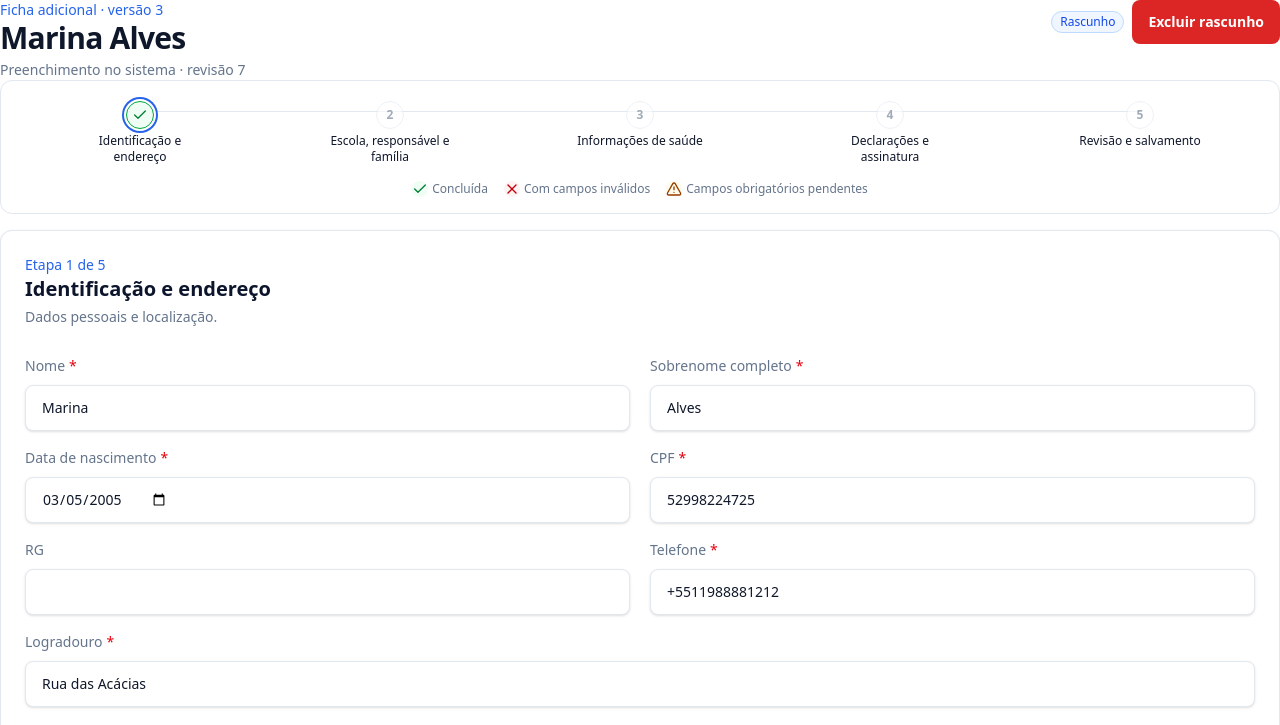
Test: OratorianoFormEditor › navega por todas as áreas e preserva valores locais
Replace the text in the field labelled "Nome" with "Mariana" at (328, 408), box x1=25 y1=385 x2=630 y2=431
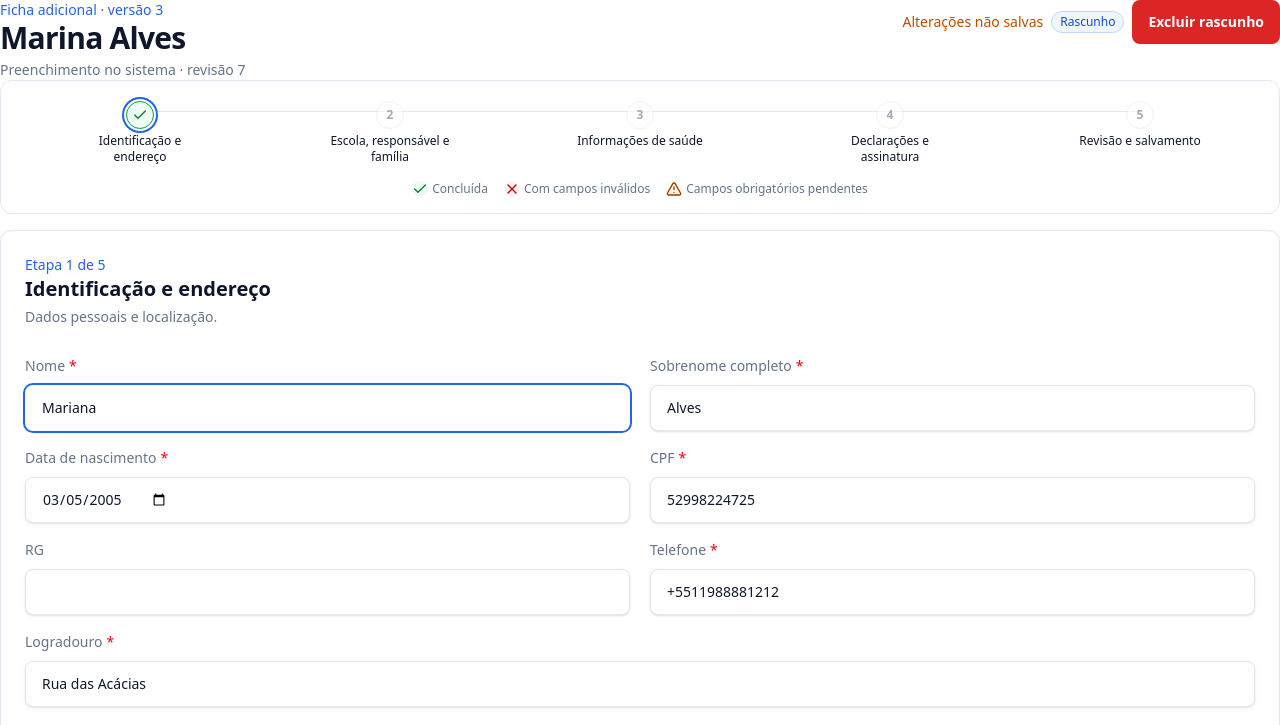
Click the button with aria-label "Etapa 2: Escola, responsável e família" at (390, 133), box x1=267 y1=97 x2=513 y2=169
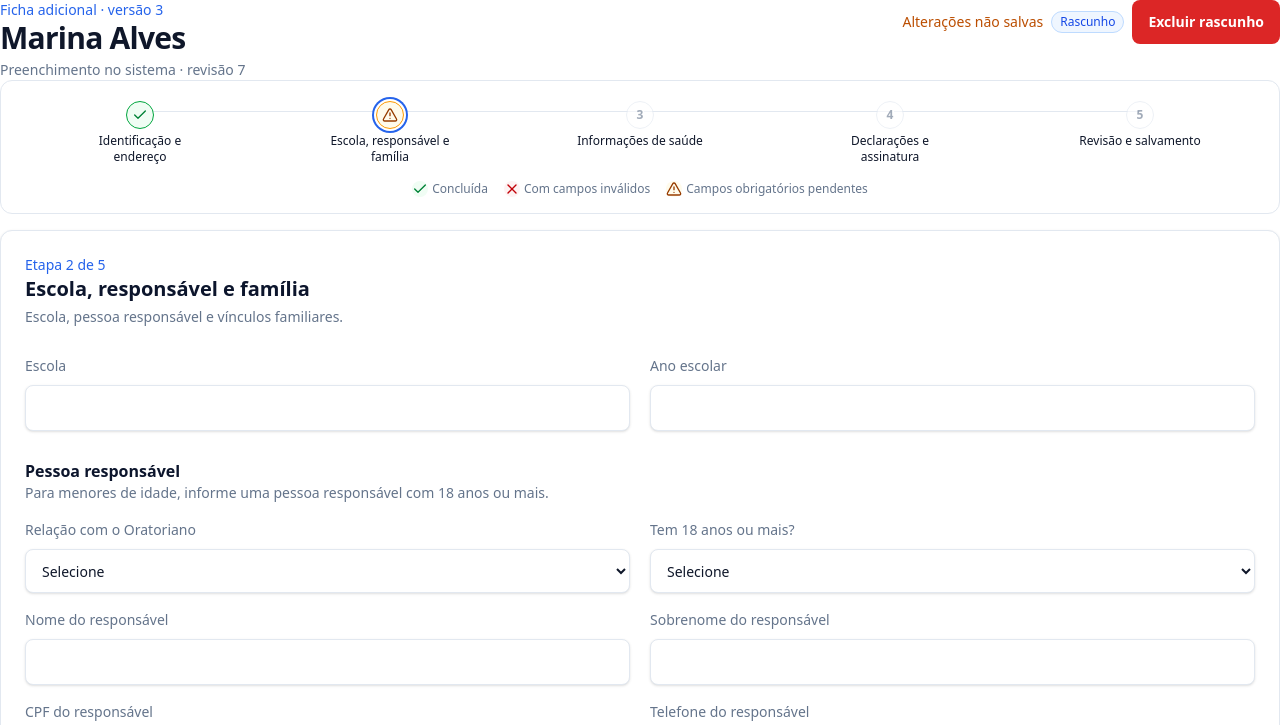
Click the button with aria-label "Etapa 1: Identificação e endereço" at (140, 133), box x1=17 y1=97 x2=263 y2=169
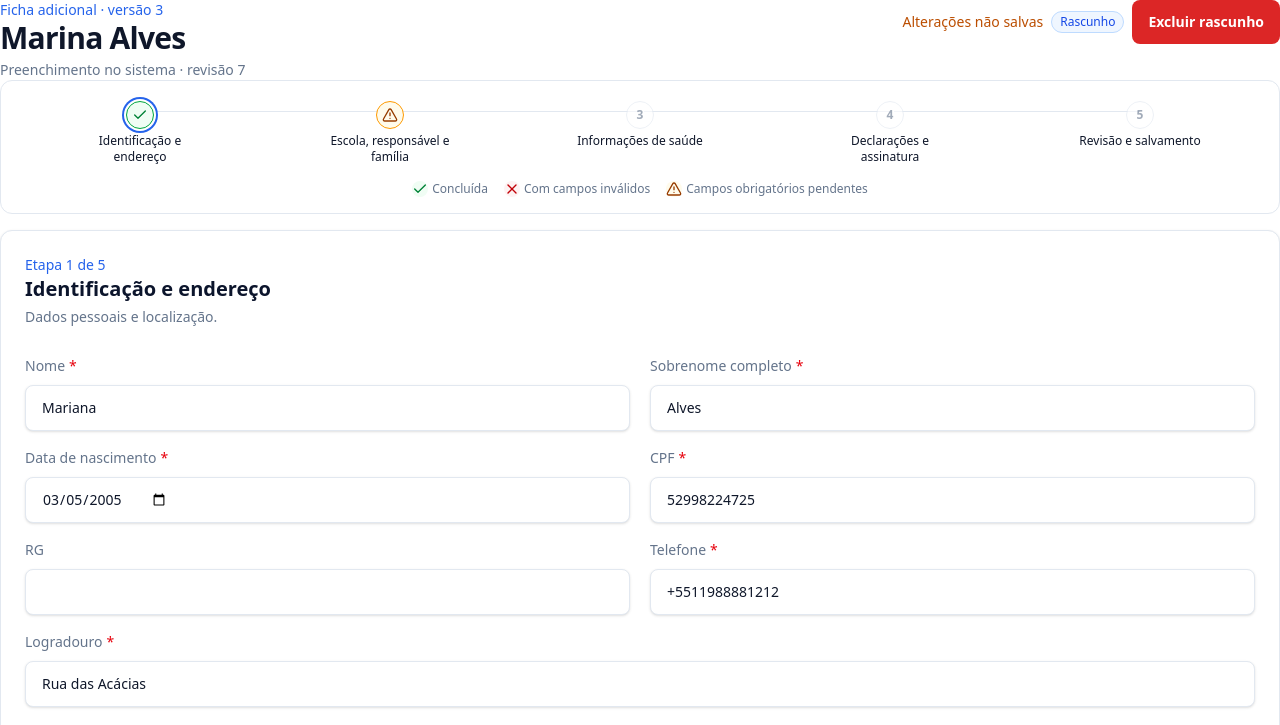
Expected: the field labelled "Nome" holds "Mariana", x1=25 y1=385 x2=630 y2=431
